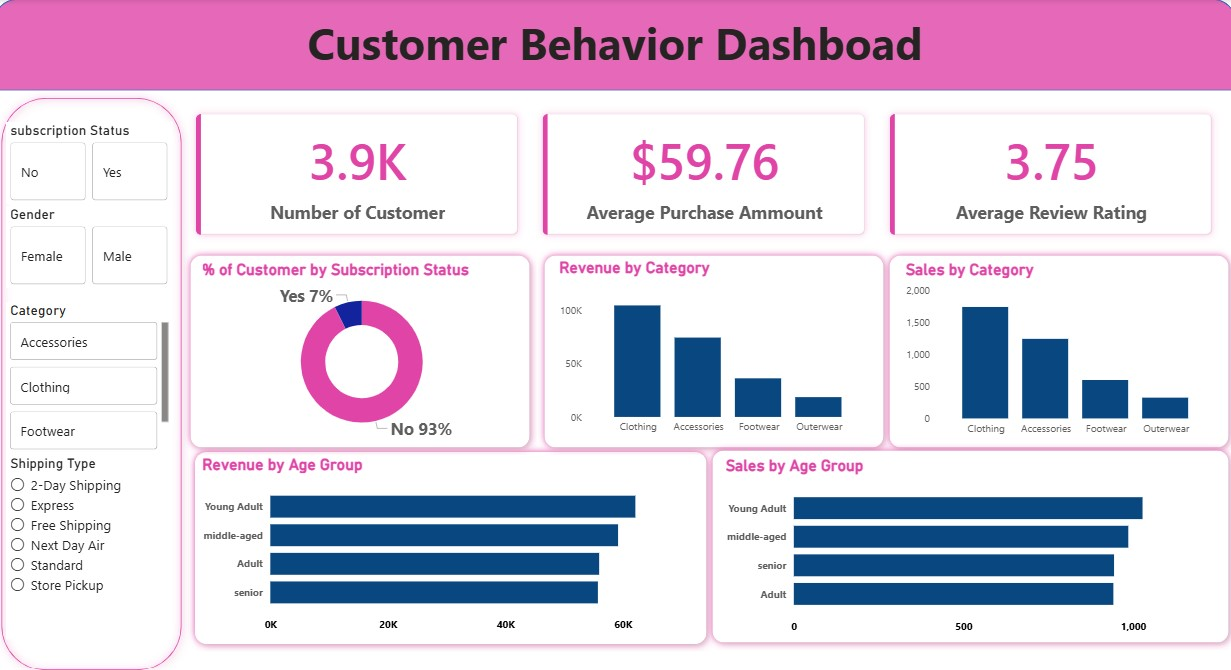

What the dashboard file says about the page in this screenshot:
{"tool":"powerbi","page":{"name":"Page 1","canvas":[1500,820],"ordinal":0},"visuals":[{"type":"cardVisual","fields":{"Data":["public customer.Number of Customer","public customer.Average Purchase Ammount","public customer.Average Review Rating"]},"box":[215.6,110.5,1284.4,202.9],"z":0},{"type":"shape","box":[0,0,1499.9,110.5],"z":1000},{"type":"textbox","box":[0,10.9,1499.9,99.6],"z":2000},{"type":"shape","box":[233.7,538,635.8,282.6],"z":3000},{"type":"shape","box":[655.8,300.7,427.5,250],"z":5000},{"type":"shape","box":[1072.4,300.7,427.5,250],"z":6000},{"type":"clusteredColumnChart","title":"Revenue by Category","fields":{"Y":["Sum(public customer.purchase_amount)"],"Category":["public customer.category"]},"box":[677.5,313.4,382.2,221],"z":7000},{"type":"clusteredColumnChart","title":"Sales by Category","fields":{"Y":["CountNonNull(public customer.customer_id)"],"Category":["public customer.category"]},"box":[1096,315.2,382.2,221],"z":8000},{"type":"shape","box":[0,110.5,235.5,710.1],"z":9000},{"type":"advancedSlicerVisual","title":"subscription Status","fields":{"Values":["public customer.subscription_status"]},"box":[14.5,148.5,201.1,99.6],"z":10000},{"type":"advancedSlicerVisual","title":"Gender","fields":{"Values":["public customer.gender"]},"box":[14.5,250,201.1,99.6],"z":11000},{"type":"advancedSlicerVisual","title":"Category","fields":{"Values":["public customer.category"]},"box":[14.5,365.9,201.1,184.8],"z":12000},{"type":"listSlicer","title":"Shipping Type","fields":{"Values":["public customer.shipping_type"]},"box":[14.5,550.7,201.1,222.8],"z":13000},{"type":"clusteredBarChart","title":"Revenue by Age Group","fields":{"Y":["Sum(public customer.purchase_amount)"],"Category":["public customer.age_group"]},"box":[246.4,550.7,599.6,251.8],"z":14000},{"type":"shape","box":[228.3,300.7,427.5,250],"z":15000},{"type":"donutChart","title":"% of Customer  by Subscription Status","fields":{"Category":["public customer.subscription_status"],"Y":["Sum(public customer.customer_id)"]},"box":[246.4,315.2,394.9,222.8],"z":15001},{"type":"shape","box":[858.7,536.2,619.5,284.4],"z":15002},{"type":"clusteredBarChart","title":"Sales by Age Group","fields":{"Y":["CountNonNull(public customer.customer_id)"],"Category":["public customer.age_group"]},"box":[882.2,552.5,579.7,250],"z":15003}]}

Visuals, with their boxes in screenshot pixels (x1, y1, x2, y2), scaled from the page's 1500x820 canvas onto the 1231x670 screenshot:
cardVisual - public customer.Number of Customer x public customer.Average Purchase Ammount: {"x1": 177, "y1": 90, "x2": 1230, "y2": 256}
shape: {"x1": 0, "y1": 0, "x2": 1230, "y2": 90}
textbox: {"x1": 0, "y1": 9, "x2": 1230, "y2": 90}
shape: {"x1": 192, "y1": 440, "x2": 714, "y2": 669}
shape: {"x1": 538, "y1": 246, "x2": 889, "y2": 450}
shape: {"x1": 880, "y1": 246, "x2": 1230, "y2": 450}
"Revenue by Category" clusteredColumnChart: {"x1": 556, "y1": 256, "x2": 870, "y2": 437}
"Sales by Category" clusteredColumnChart: {"x1": 899, "y1": 258, "x2": 1213, "y2": 438}
shape: {"x1": 0, "y1": 90, "x2": 193, "y2": 669}
"subscription Status" advancedSlicerVisual: {"x1": 12, "y1": 121, "x2": 177, "y2": 203}
"Gender" advancedSlicerVisual: {"x1": 12, "y1": 204, "x2": 177, "y2": 286}
"Category" advancedSlicerVisual: {"x1": 12, "y1": 299, "x2": 177, "y2": 450}
"Shipping Type" listSlicer: {"x1": 12, "y1": 450, "x2": 177, "y2": 632}
"Revenue by Age Group" clusteredBarChart: {"x1": 202, "y1": 450, "x2": 694, "y2": 656}
shape: {"x1": 187, "y1": 246, "x2": 538, "y2": 450}
"% of Customer  by Subscription Status" donutChart: {"x1": 202, "y1": 258, "x2": 526, "y2": 440}
shape: {"x1": 705, "y1": 438, "x2": 1213, "y2": 669}
"Sales by Age Group" clusteredBarChart: {"x1": 724, "y1": 451, "x2": 1200, "y2": 656}
